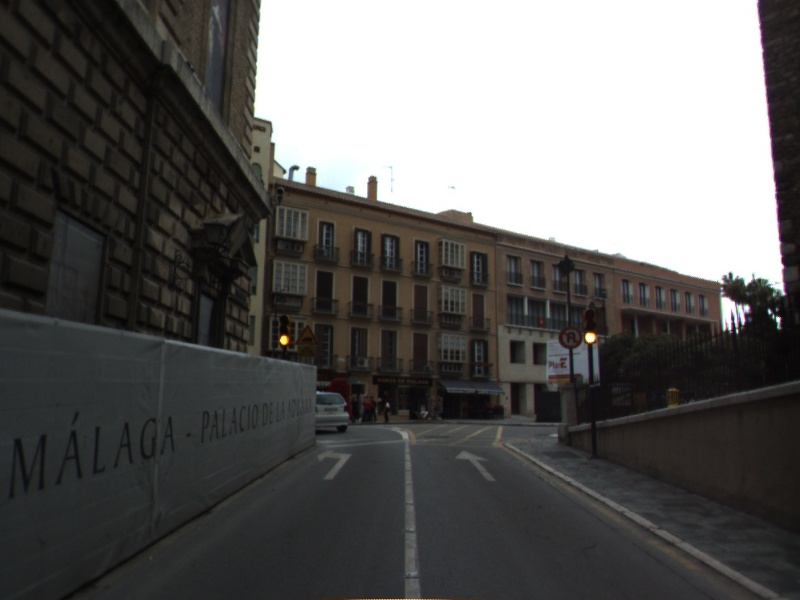LEFT: (315, 447, 354, 482)
STRAIGHT: (453, 448, 498, 483)
